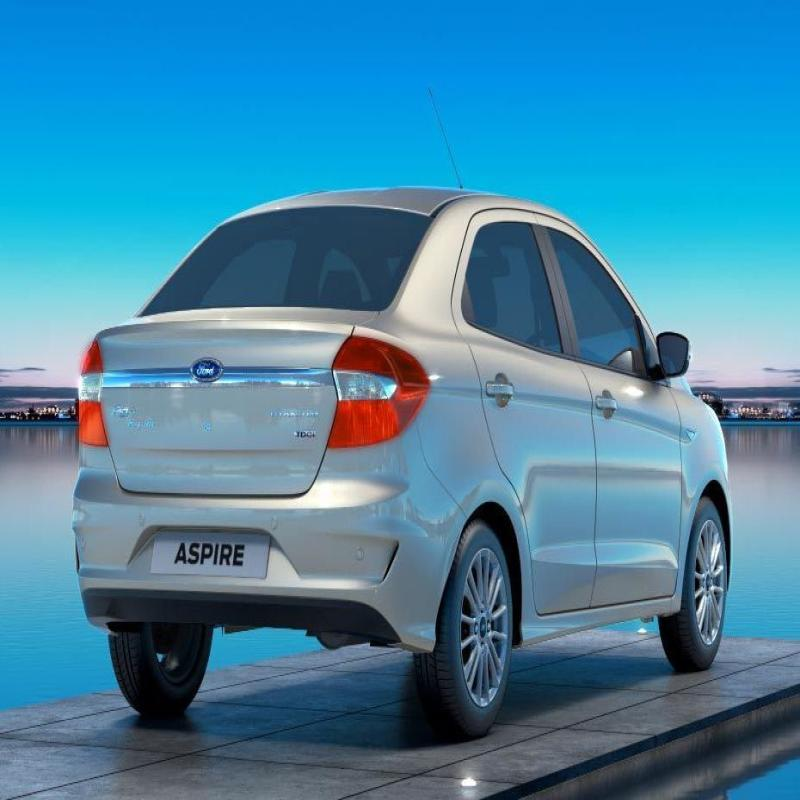car: (59, 163, 742, 720)
